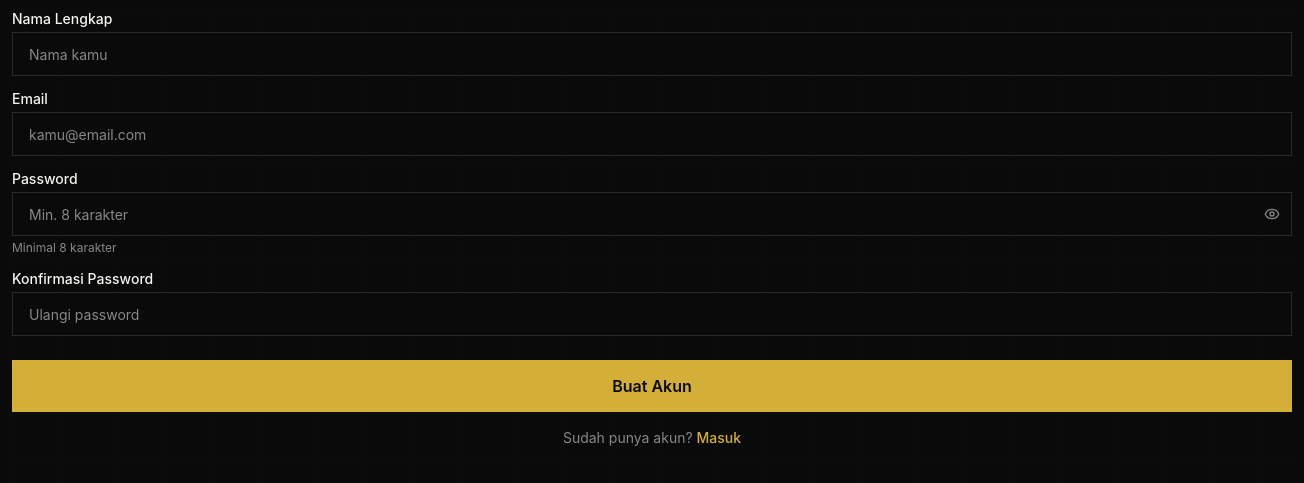
Test: SignupForm › shows error jika password tidak cocok
Type "Budi" into the field labelled "Nama Lengkap" at {"x": 652, "y": 54}, box [12, 32, 1292, 76]
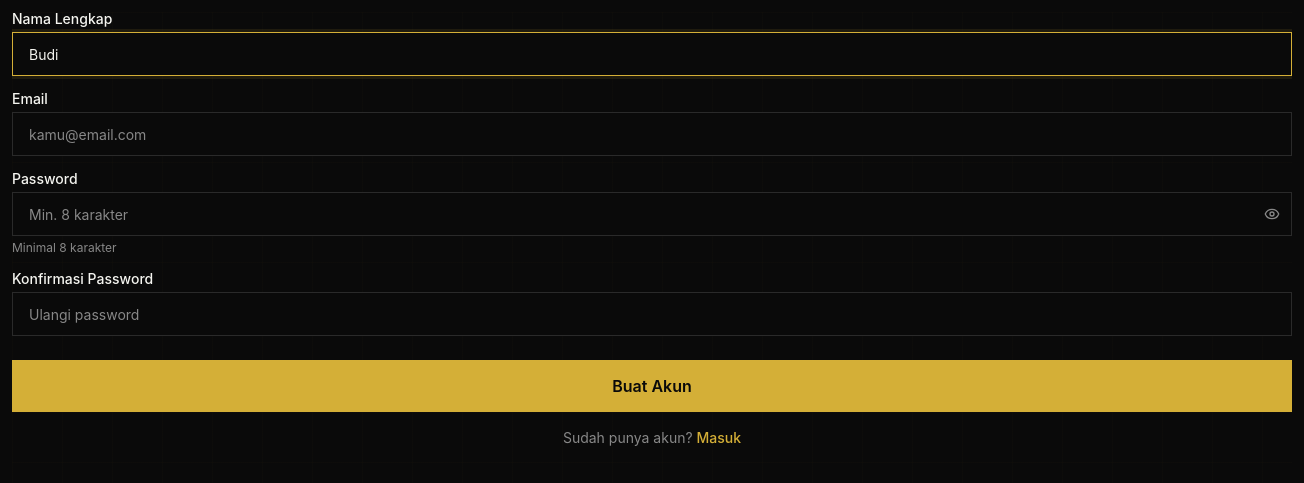
Type "budi@test.com" into the field labelled "Email" at {"x": 652, "y": 134}, box [12, 112, 1292, 156]
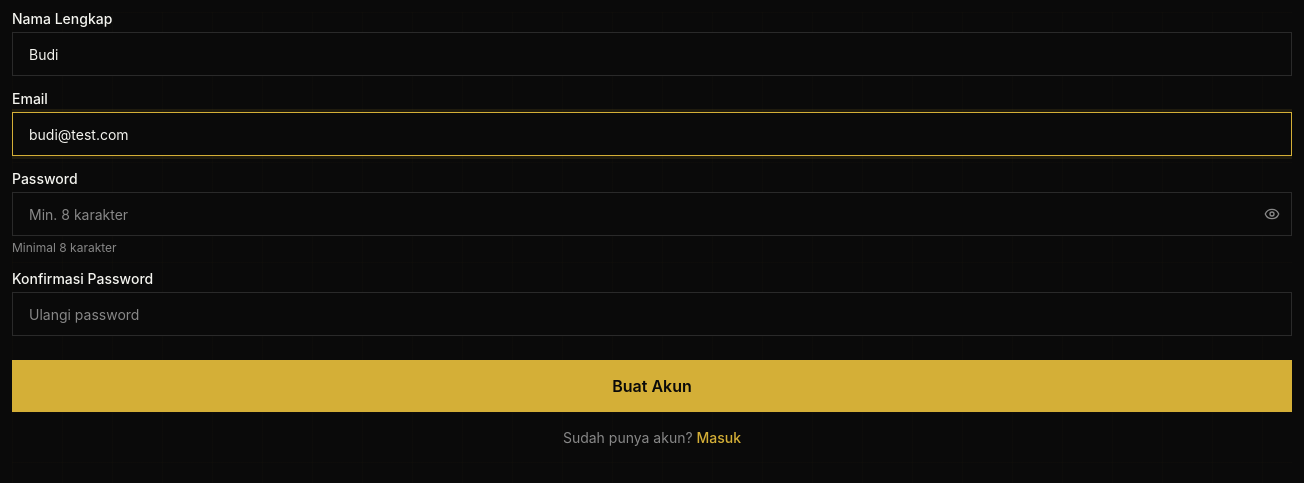
Type "password123" into the password field labelled "Password" at {"x": 652, "y": 214}, box [12, 192, 1292, 236]
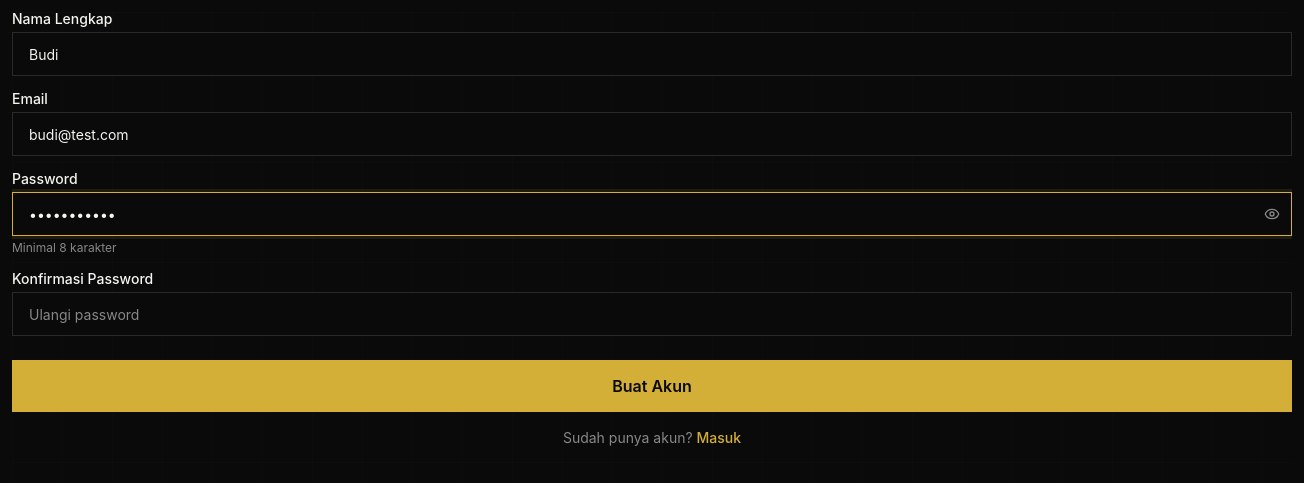
Type "password456" into the password field labelled "Konfirmasi Password" at {"x": 652, "y": 314}, box [12, 292, 1292, 336]
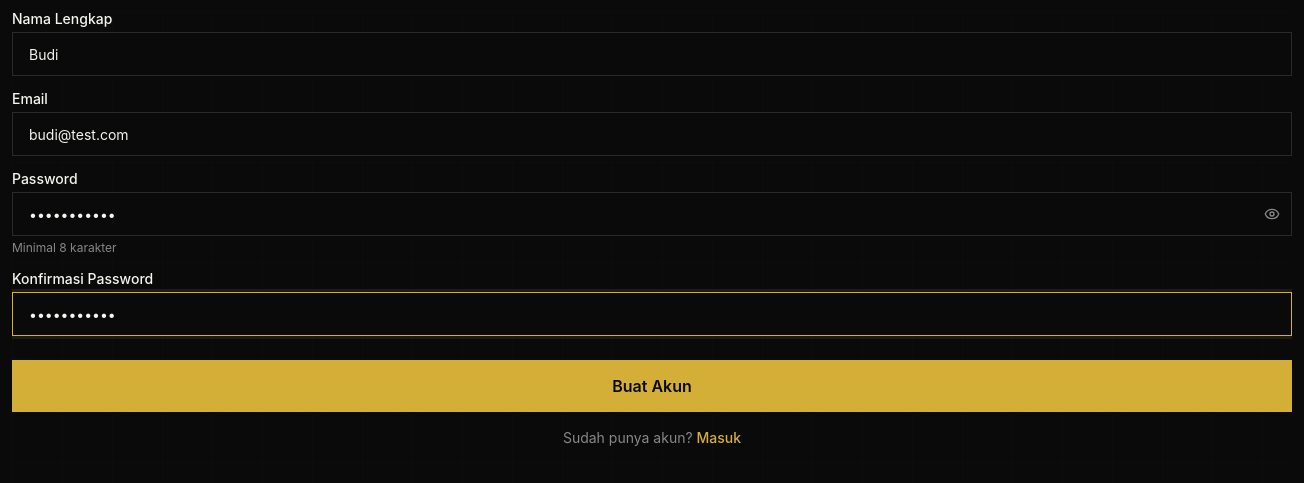
Click the button "Buat Akun" at {"x": 652, "y": 386}, box [12, 360, 1292, 412]
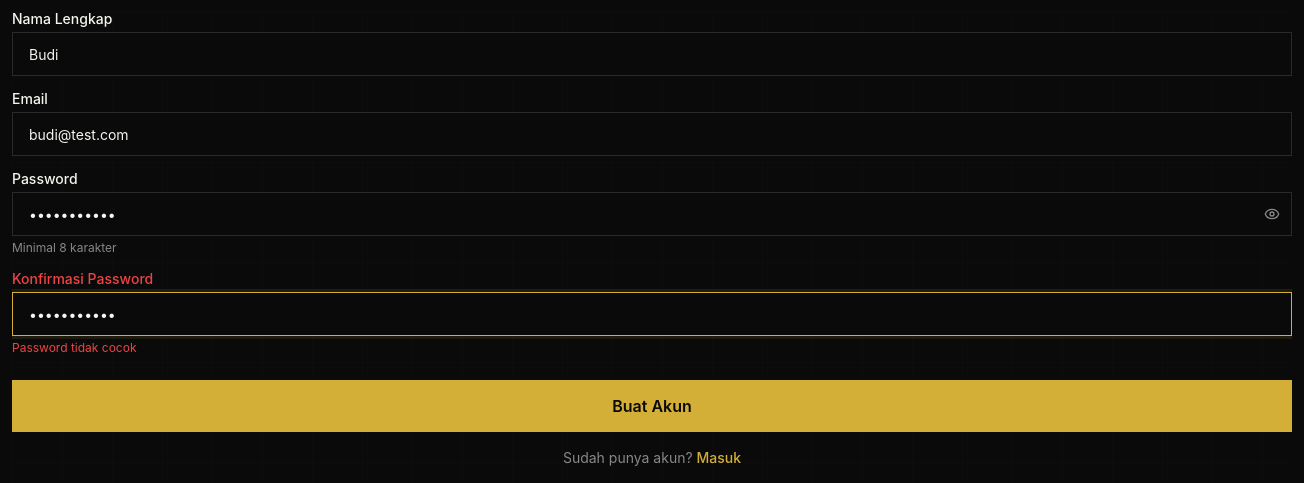
Expected: the text "Password tidak cocok" is shown, [12, 340, 136, 355]
